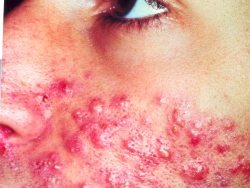Acne: (152, 132, 177, 162), (170, 107, 191, 130), (86, 97, 105, 114), (187, 124, 204, 143), (48, 159, 64, 174)
